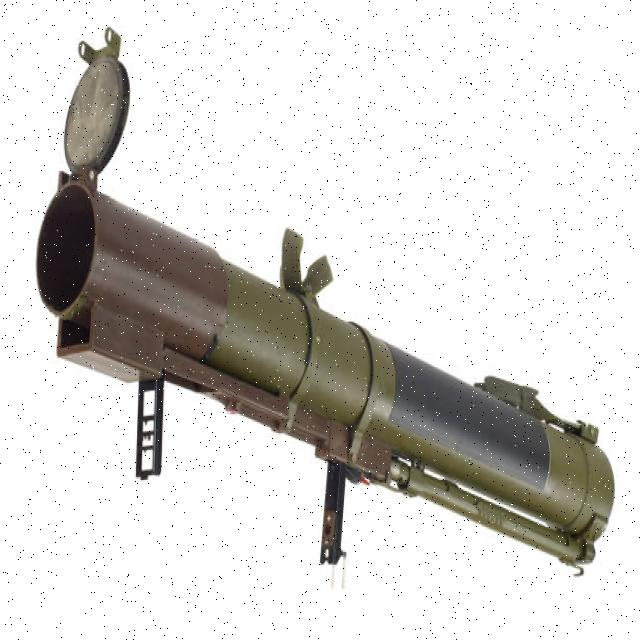bazooka: (30, 25, 620, 601)
